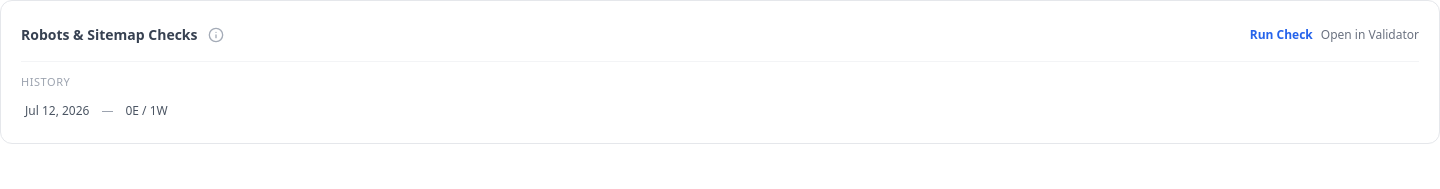
Test: RobotsCheckCard › expanding a history row lazily fetches its detail; fetch failure surfaces inline error
Step 1. Click the button "Jul 12, 2026 — 0E / 1W" → (57, 110), box left=21, top=98, right=1419, bottom=122
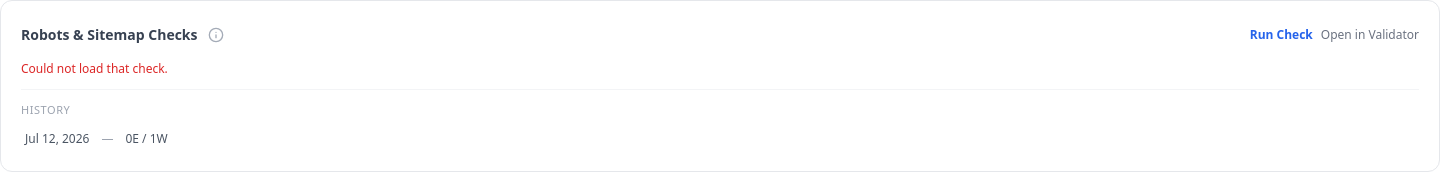
Check: the text "Could not load that check." is shown, box left=21, top=60, right=168, bottom=77
